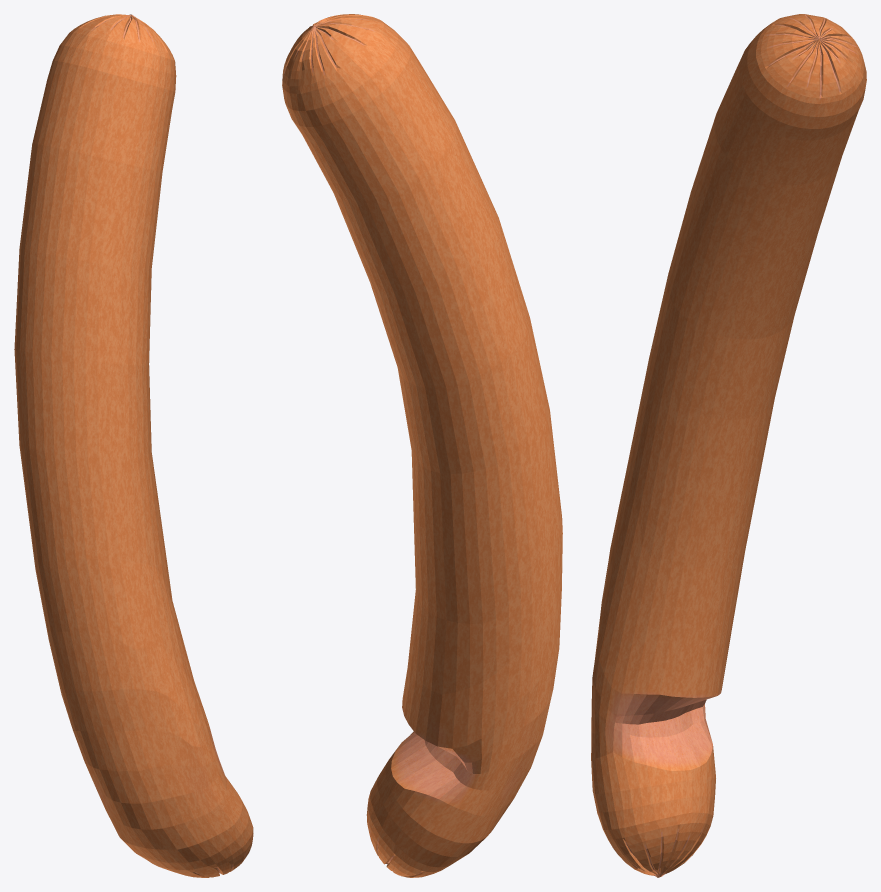
Rendered from sausage.fbx.
3 views of the same model, side by side, from view 1: azimuth 30°, elevation 25°; view 2: azimuth 150°, elevation 25°; view 3: azimuth 270°, elevation 25° (orthographic). The views are drawn at different scales.
Visible parts, largest first — view 1: sausage; view 2: sausage; view 3: sausage.
Part boxes in pixels (left/top/right/bottom): sausage: left=14, top=14, right=253, bottom=877; sausage: left=282, top=14, right=562, bottom=877; sausage: left=591, top=14, right=866, bottom=877.
Bounding box in the file's own units: 2.22 × 9.33 × 2.78.
